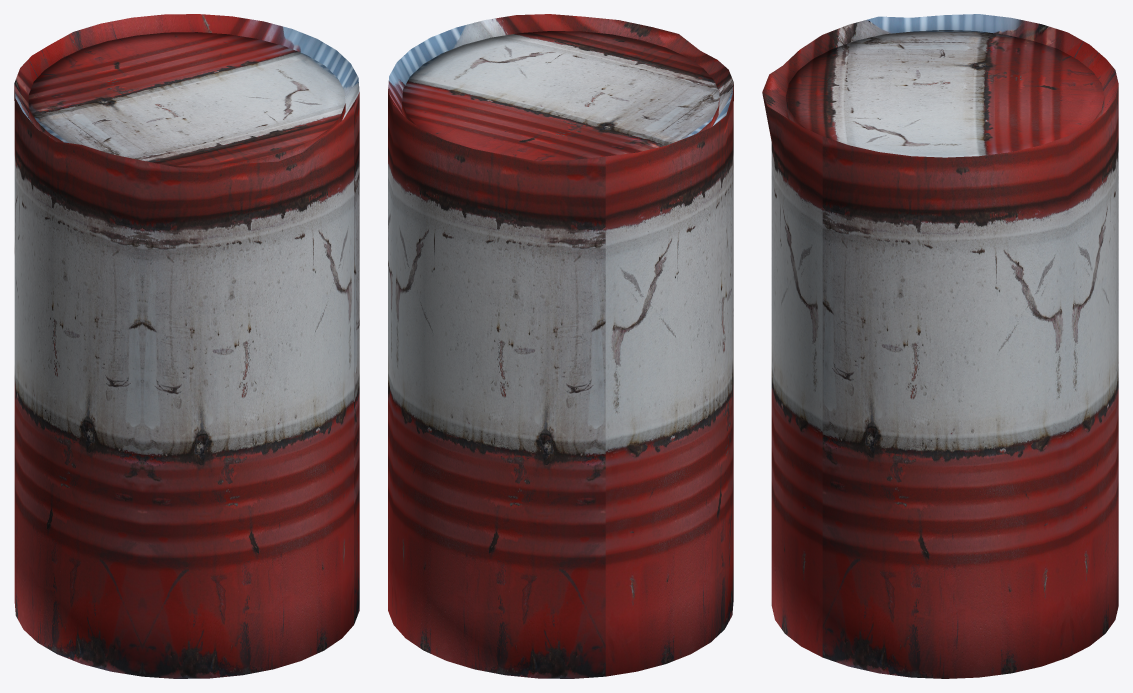
File: Barrel.fbx
The picture shows the model from 3 angles, left to right: view 1: azimuth 30°, elevation 25°; view 2: azimuth 150°, elevation 25°; view 3: azimuth 270°, elevation 25°; orthographic projection.
Parts seen in each view (by area): view 1: Barrel; view 2: Barrel; view 3: Barrel.
Boxes of the visible parts, box(x1,y1,x2,y2) form: Barrel: box(14, 14, 359, 678); Barrel: box(388, 14, 733, 678); Barrel: box(762, 14, 1118, 678).
Bounding box in the file's own units: 201 × 331 × 205.
Materials: 1 (1 with a texture image).
